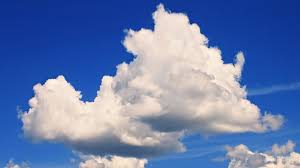Cumulus: (116, 7, 284, 140), (19, 63, 184, 157)
